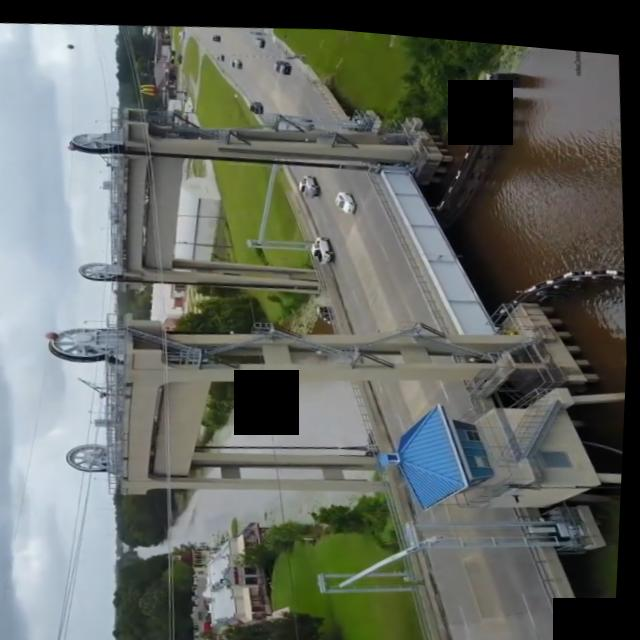Building: (40, 253, 570, 529), (55, 69, 458, 320), (298, 481, 616, 616), (375, 357, 628, 514)
Vehicle: (281, 160, 328, 194), (306, 224, 344, 261), (326, 176, 366, 209)
